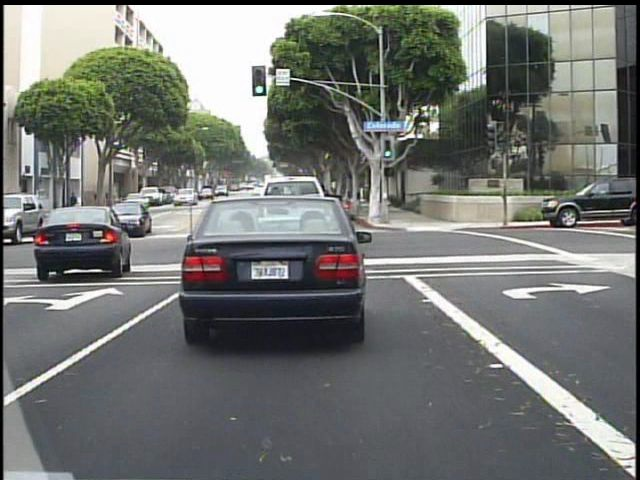person: (66, 189, 84, 221)
